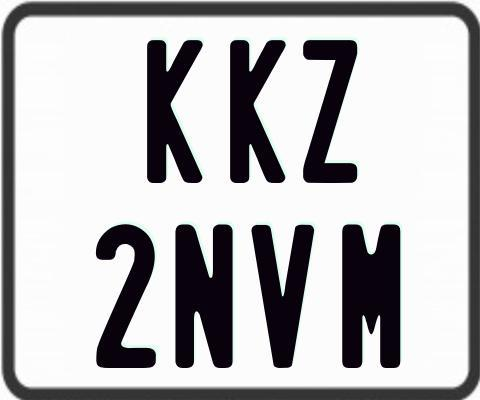2: (93, 221, 155, 366)
K: (145, 38, 203, 183), (228, 38, 285, 183)
M: (339, 222, 401, 371)
N: (174, 223, 233, 368)
V: (251, 224, 316, 371)
Z: (300, 40, 357, 187)
